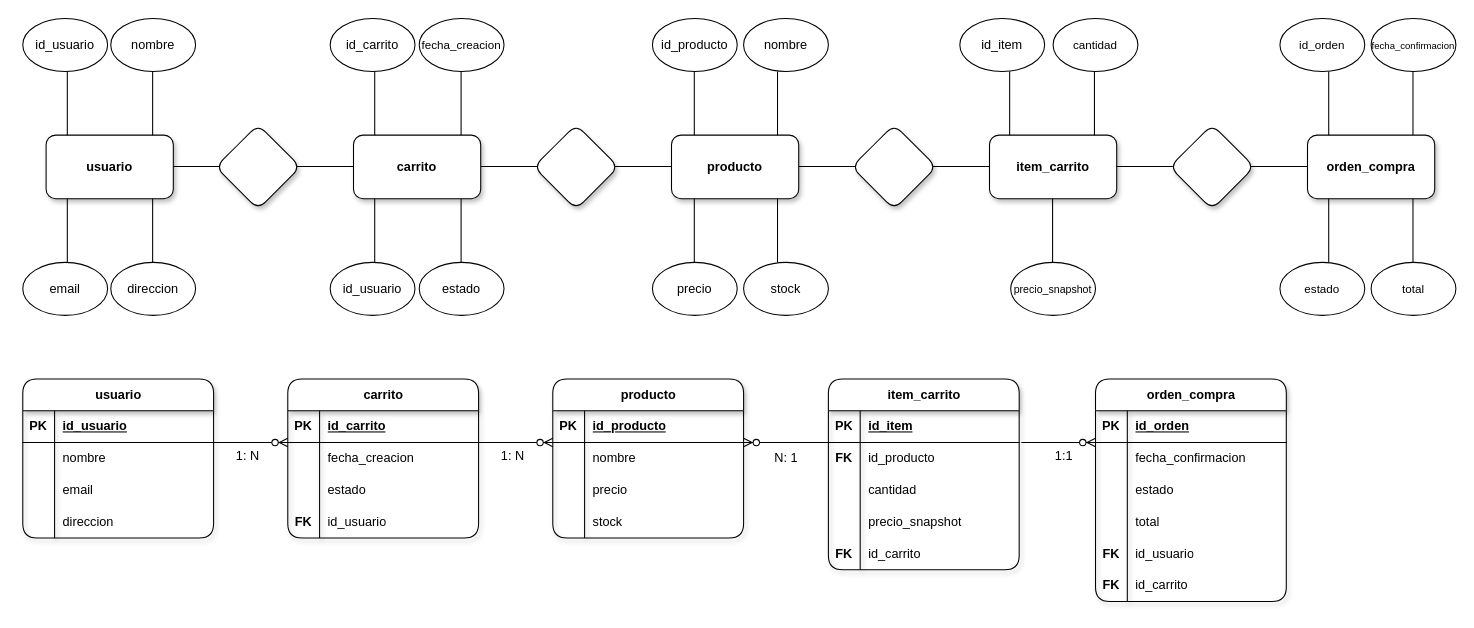
Image size: 1474x628. Some labels were removed from this diagram. Here are the shapes that lost their labels. From the top down, the centre of each, then its label:
point (258, 168): llena
point (576, 168): contiene
point (894, 168): a través
point (1212, 168): genera
